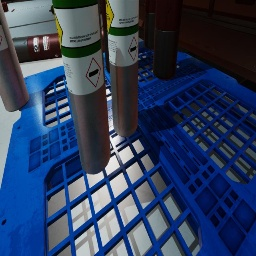0: (52, 0, 111, 175), (106, 0, 139, 137), (0, 0, 29, 112), (49, 5, 54, 14)
FirstAidBox ,: (1, 0, 8, 12)
NitrogenTank ,: (153, 0, 183, 80), (12, 33, 62, 63), (101, 0, 110, 74), (144, 0, 156, 50), (102, 30, 105, 53)
